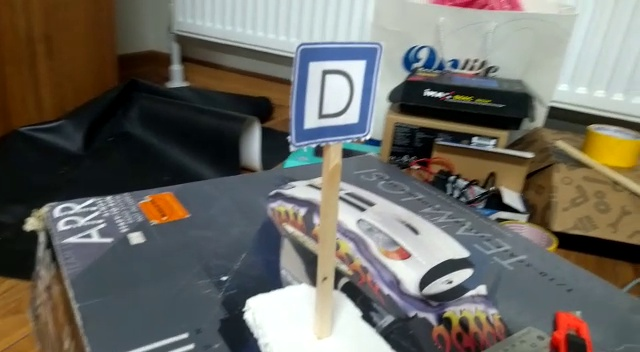durak: (294, 47, 376, 135)
